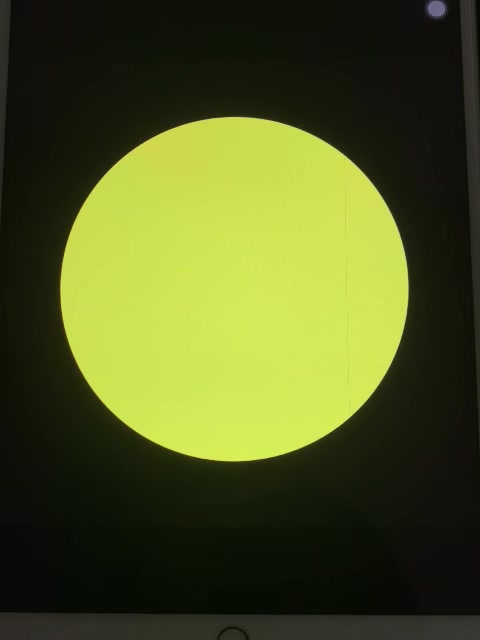left: (53, 108, 417, 477)
